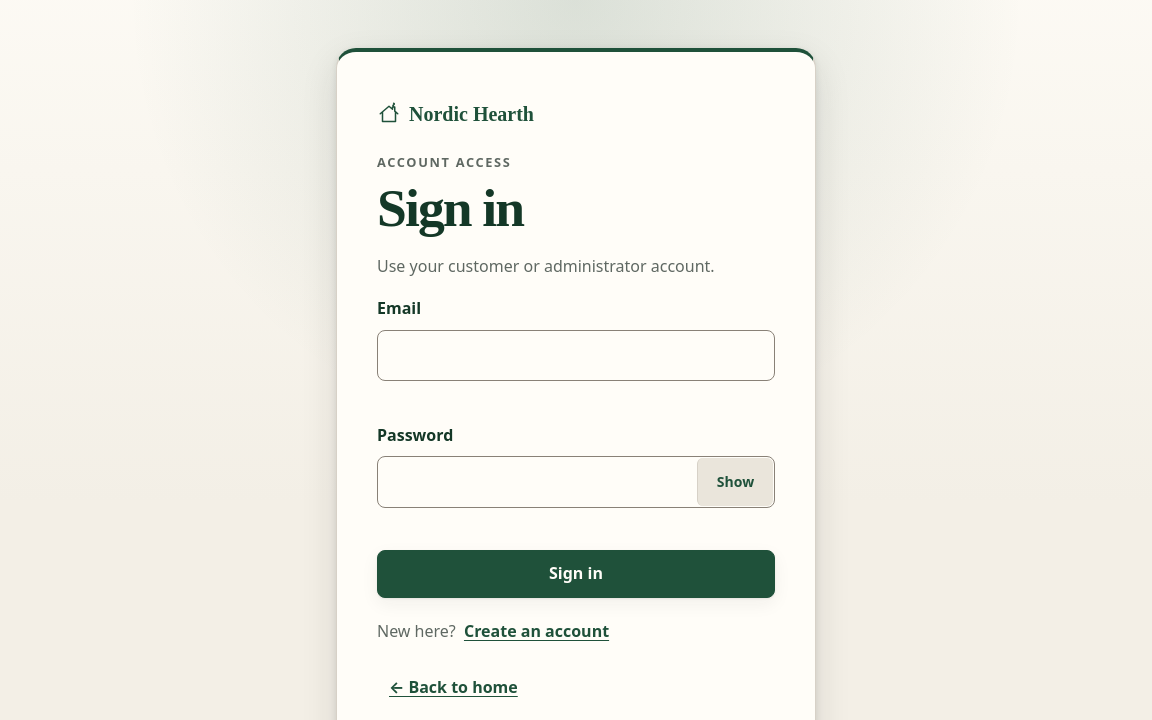
it: administrator authentication routes and guard › returns to a safe known admin deep link after login
This screenshot has width=1152, height=720.
Type "admin@example.test" into the field labelled "Email".
click(576, 355); type("admin@example.test")  # box [377,330,775,381]
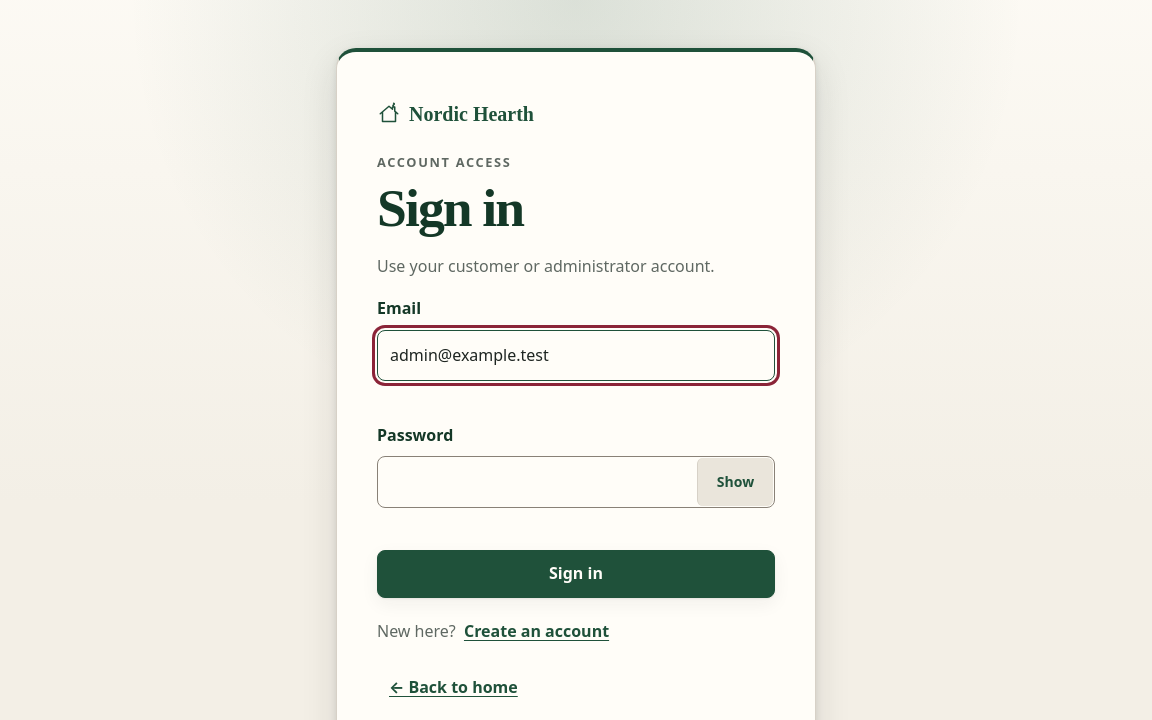
Type "synthetic password" into the password field labelled "Password".
click(576, 482); type("synthetic password")  # box [377,456,775,508]
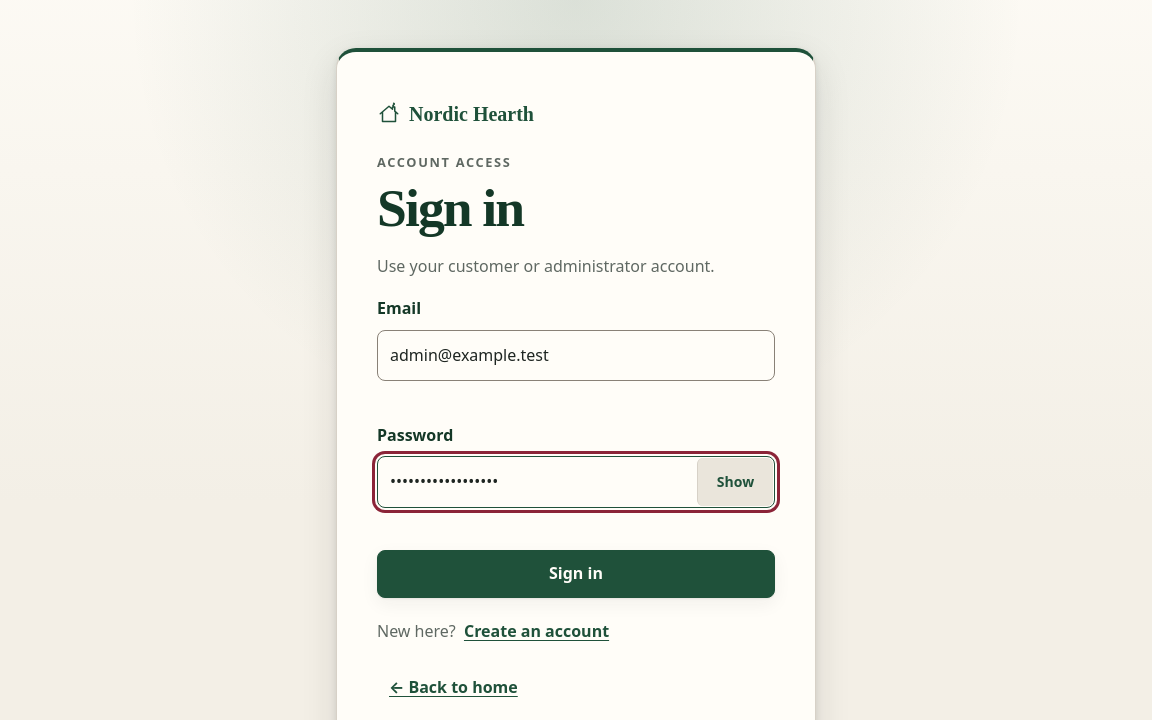
Click the button "Sign in".
click(576, 574)  # box [377,550,775,598]
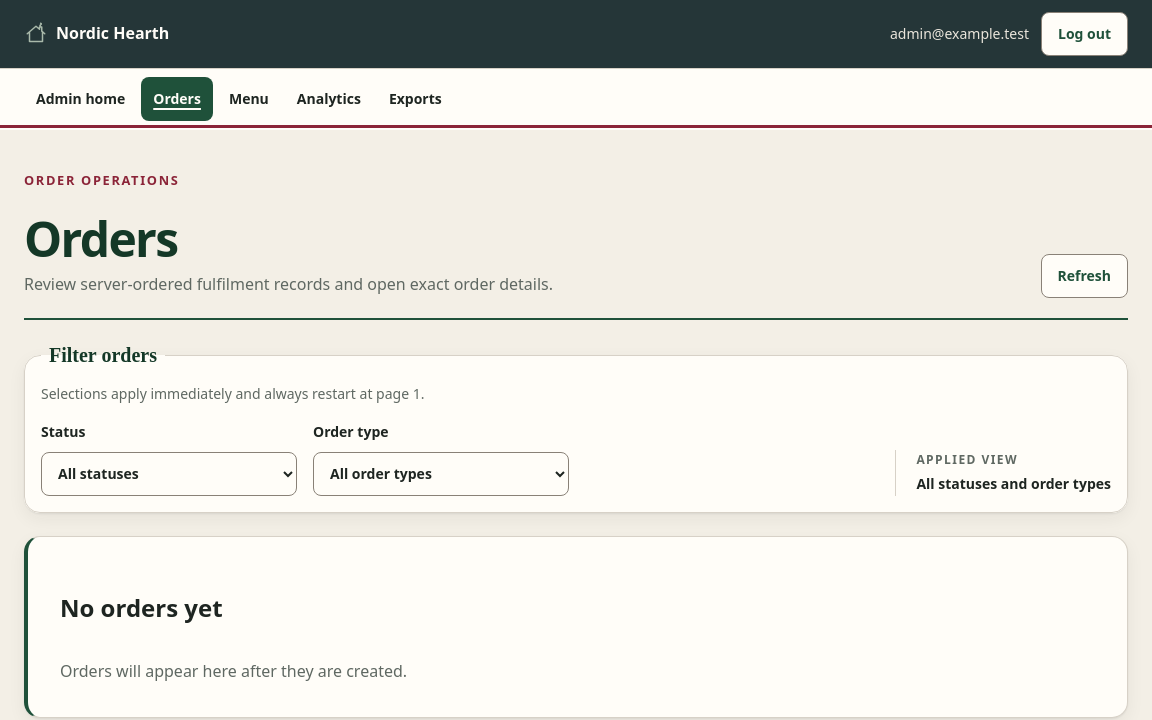
Now the heading "Orders" is shown, box [24,206,177,272]
